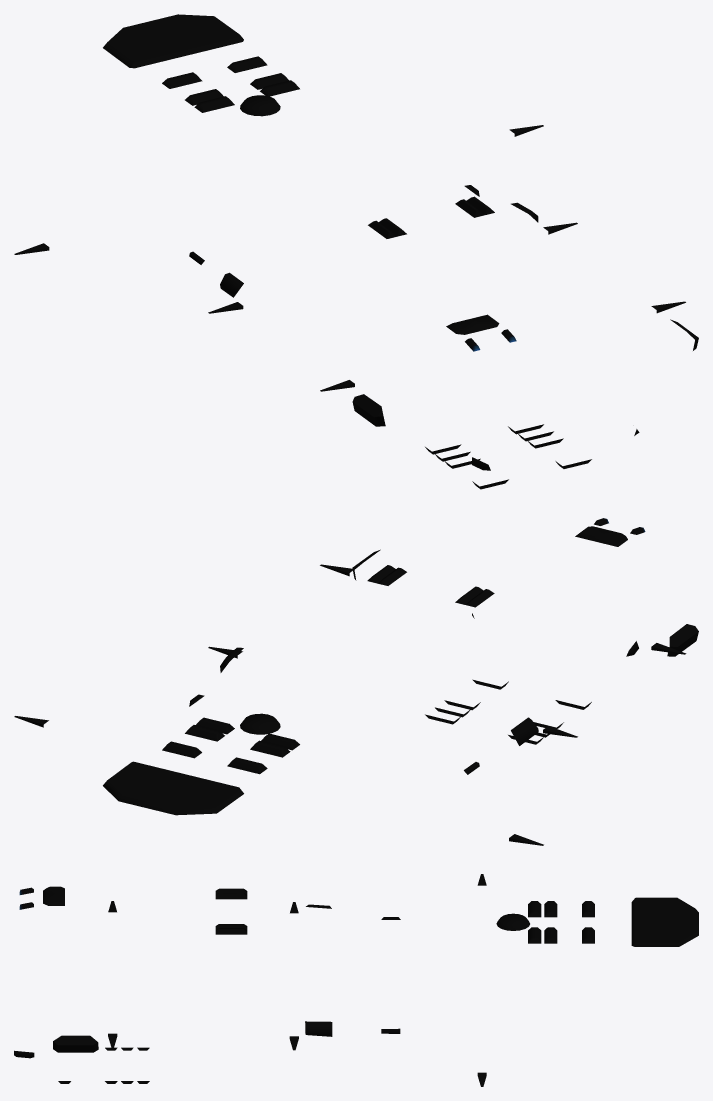
The model's file is hgn_torpedo_frigate_01_t3.glb.
3 views of the same model, one above another, from view 1: azimuth 30°, elevation 25°; view 2: azimuth 150°, elevation 25°; view 3: azimuth 270°, elevation 25° (orthographic). The views are drawn at different scales.
Parts seen in each view (by area): view 1: hgn_torpedo_frigate_01_t3_LOD0; view 2: hgn_torpedo_frigate_01_t3_LOD0; view 3: hgn_torpedo_frigate_01_t3_LOD0.
Part boxes in pixels (x1=…): hgn_torpedo_frigate_01_t3_LOD0: x1=14, y1=14, x2=698, y2=489; hgn_torpedo_frigate_01_t3_LOD0: x1=14, y1=518, x2=698, y2=845; hgn_torpedo_frigate_01_t3_LOD0: x1=14, y1=874, x2=698, y2=1086.
Size of what is drawn, in the model's own units: 1.47 by 0.493 by 1.99.
Materials: 1 (1 with a texture image).
